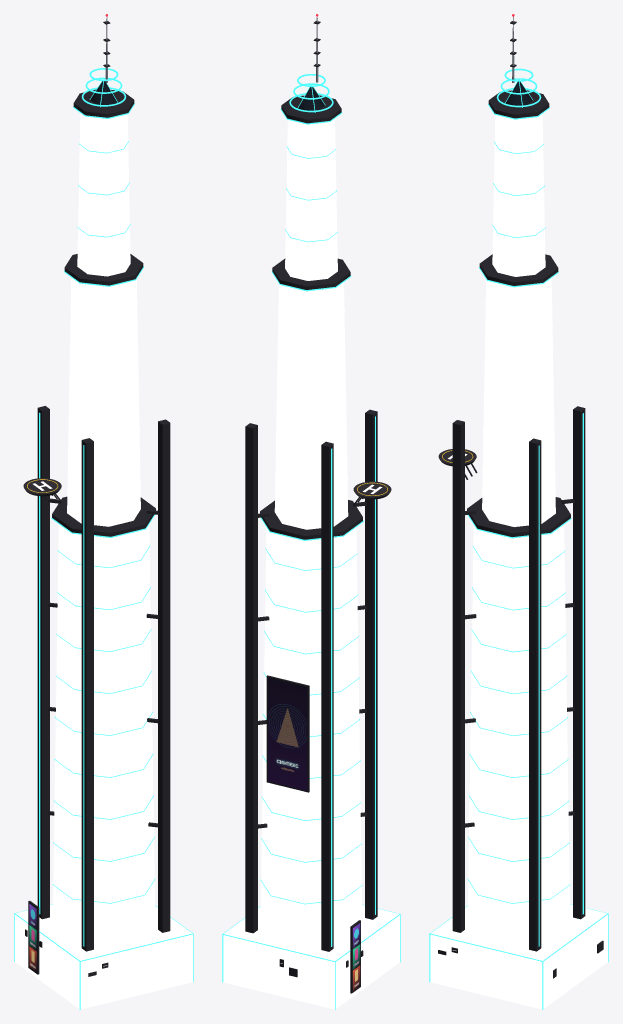
Rendered from spire_a.glb.
3 renders of one model, left to right at view 1: azimuth 30°, elevation 25°; view 2: azimuth 150°, elevation 25°; view 3: azimuth 330°, elevation 25°, orthographic.
Visible parts, largest first — view 1: facade_glass, facade_panel, metal_dark, neon_cyan, light_white, concrete_dark, screen_col500218; view 2: facade_glass, facade_panel, metal_dark, screen_sp201, neon_cyan, screen_col500218, light_white, concrete_dark; view 3: facade_glass, facade_panel, metal_dark, neon_cyan, light_white.
Part boxes in pixels (x1,y1,x2,y2): facade_glass: [52, 113, 155, 944]; facade_panel: [15, 278, 192, 1009]; metal_dark: [25, 21, 170, 976]; neon_cyan: [14, 68, 193, 1009]; light_white: [33, 303, 140, 966]; concrete_dark: [23, 478, 61, 496]; screen_col500218: [29, 903, 36, 972]; facade_glass: [260, 119, 362, 945]; facade_panel: [223, 282, 399, 1009]; metal_dark: [245, 21, 377, 993]; screen_sp201: [268, 678, 307, 790]; neon_cyan: [222, 74, 400, 1009]; screen_col500218: [352, 923, 360, 991]; light_white: [274, 307, 382, 963]; concrete_dark: [353, 481, 391, 499]; facade_glass: [467, 114, 570, 945]; facade_panel: [430, 278, 607, 1009]; metal_dark: [438, 21, 603, 978]; neon_cyan: [429, 68, 608, 1009]; light_white: [448, 303, 555, 950].
Bounding box in the file's own units: 40.89 × 277 × 34.56.
Materials: 12 (2 with a texture image).
